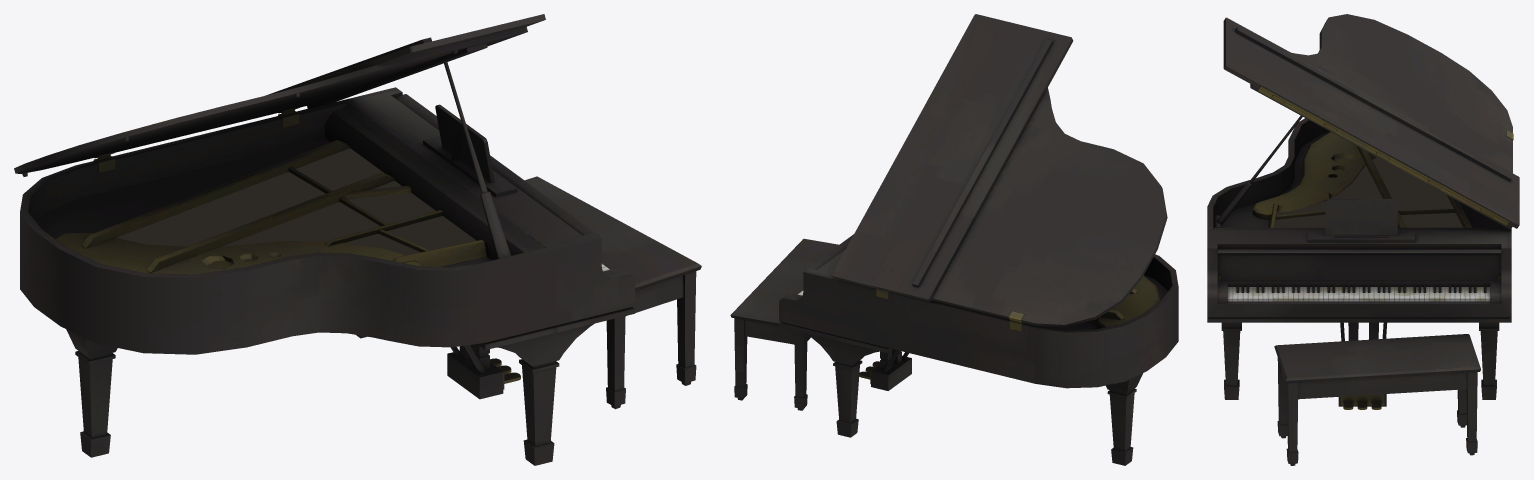
Rendered from baby_grand_01_mirror.glb.
3 views of the same model, side by side, from view 1: azimuth 30°, elevation 25°; view 2: azimuth 150°, elevation 25°; view 3: azimuth 270°, elevation 25° (orthographic). The views are drawn at different scales.
Visible parts, largest first — view 1: baby_grand_01_mirror; view 2: baby_grand_01_mirror; view 3: baby_grand_01_mirror.
Boxes of the visible parts, x1,y1,x2,y2 form: baby_grand_01_mirror: (14, 14, 701, 465); baby_grand_01_mirror: (730, 14, 1178, 465); baby_grand_01_mirror: (1207, 14, 1519, 465).
Size of the model in its own units: 2.92 by 2.19 by 1.87.
Materials: 3 (3 with a texture image).
